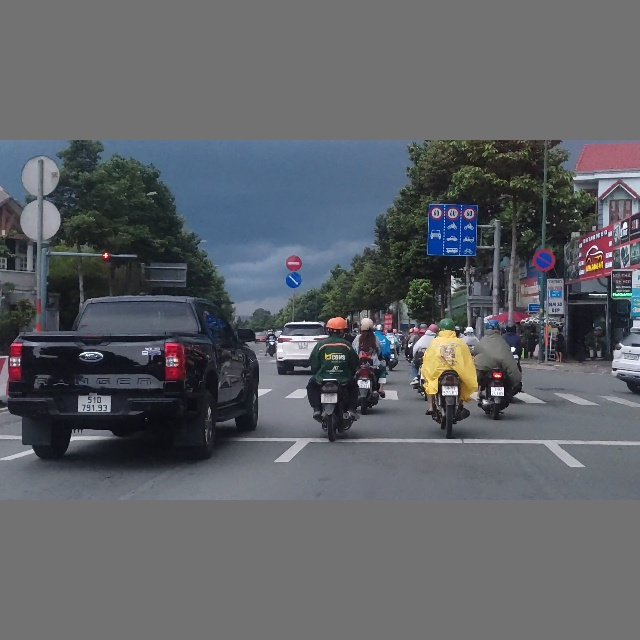P.102: (285, 255, 302, 272)
P.131a: (532, 249, 556, 271)
R.302a: (285, 272, 302, 288)
R.415a: (427, 204, 478, 257)
